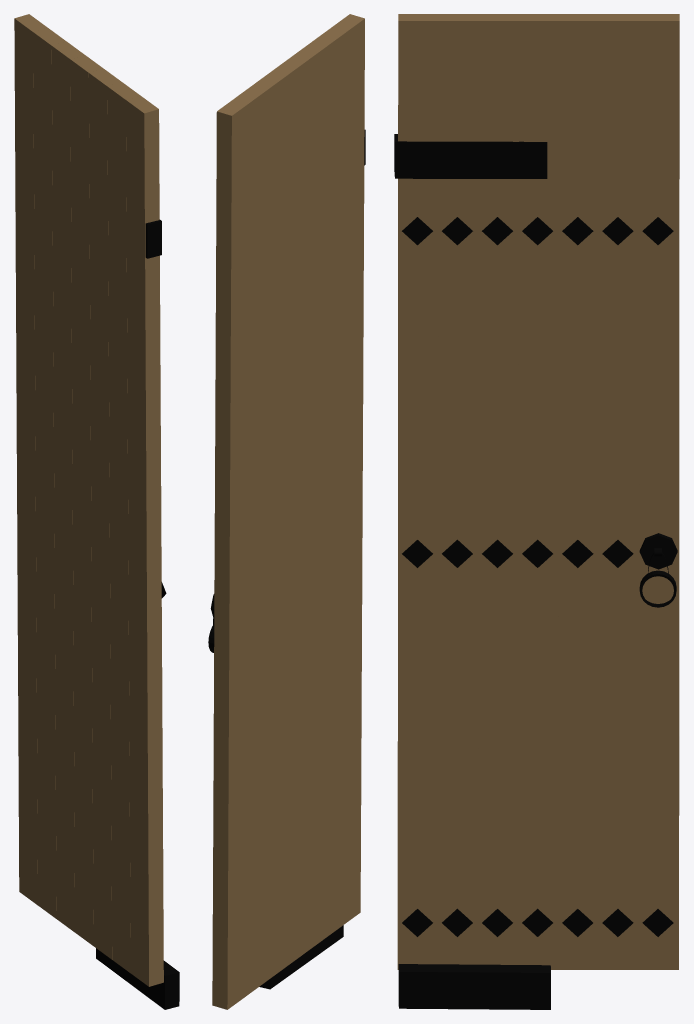
The model's file is left door.fbx.
3 views of the same model, side by side, from view 1: azimuth 30°, elevation 25°; view 2: azimuth 150°, elevation 25°; view 3: azimuth 270°, elevation 25° (orthographic). The views are drawn at different scales.
Parts seen in each view (by area): view 1: polySurface57, polySurface5, polySurface45, polySurface53, polySurface37, polySurface49, polySurface41, polySurface10, polySurface9; view 2: polySurface5, polySurface37, polySurface45, polySurface53, polySurface49, polySurface41, polySurface57, polySurface10; view 3: polySurface41, polySurface37, polySurface5, polySurface57, polySurface45, polySurface49, polySurface53, polySurface10, polySurface9, pCylinder5.
Boxes of the visible parts, left/top/right/bottom form: polySurface57: left=126, top=95, right=163, bottom=986; polySurface5: left=14, top=14, right=47, bottom=905; polySurface45: left=70, top=55, right=103, bottom=945; polySurface53: left=107, top=82, right=139, bottom=972; polySurface37: left=33, top=28, right=65, bottom=918; polySurface49: left=89, top=68, right=121, bottom=959; polySurface41: left=51, top=41, right=84, bottom=932; polySurface10: left=96, top=948, right=179, bottom=1009; polySurface9: left=145, top=219, right=161, bottom=258; polySurface5: left=212, top=97, right=251, bottom=1009; polySurface37: left=236, top=83, right=270, bottom=995; polySurface45: left=274, top=55, right=308, bottom=967; polySurface53: left=312, top=28, right=346, bottom=939; polySurface49: left=293, top=41, right=327, bottom=953; polySurface41: left=255, top=69, right=289, bottom=981; polySurface57: left=331, top=14, right=364, bottom=925; polySurface10: left=259, top=925, right=343, bottom=989; polySurface41: left=558, top=14, right=599, bottom=969; polySurface37: left=598, top=14, right=639, bottom=969; polySurface5: left=638, top=14, right=679, bottom=969; polySurface57: left=397, top=14, right=438, bottom=969; polySurface45: left=518, top=14, right=558, bottom=969; polySurface49: left=478, top=14, right=518, bottom=964; polySurface53: left=438, top=14, right=478, bottom=964; polySurface10: left=398, top=964, right=550, bottom=1009; polySurface9: left=394, top=134, right=547, bottom=178; pCylinder5: left=639, top=533, right=677, bottom=607.
Size of the model in its own units: 2.07 by 48.24 by 12.76.
